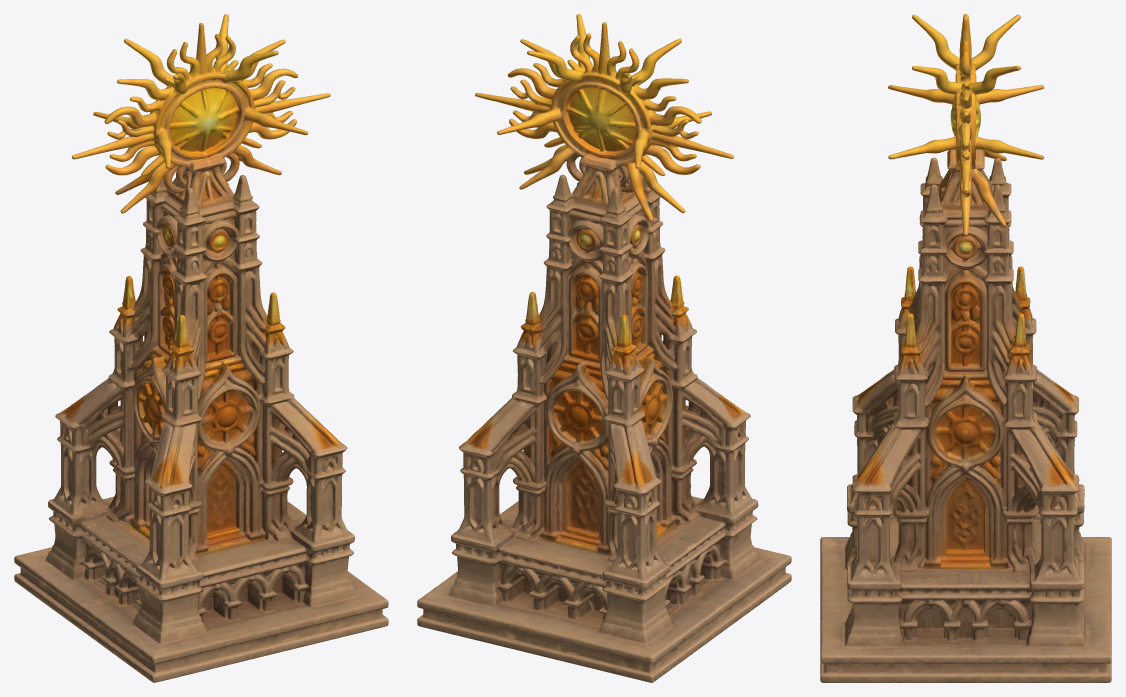
3 renders of one model, left to right at view 1: azimuth 30°, elevation 25°; view 2: azimuth 150°, elevation 25°; view 3: azimuth 270°, elevation 25°, orthographic. The views are drawn at different scales.
Parts seen in each view (by area): view 1: untitled; view 2: untitled; view 3: untitled.
Boxes of the visible parts, x1=… form: untitled: x1=14, y1=14, x2=388, y2=682; untitled: x1=417, y1=14, x2=791, y2=682; untitled: x1=820, y1=14, x2=1111, y2=682.
Bounding box in the file's own units: 0.9312 × 2 × 0.8726.
1 material, 1 textured.
